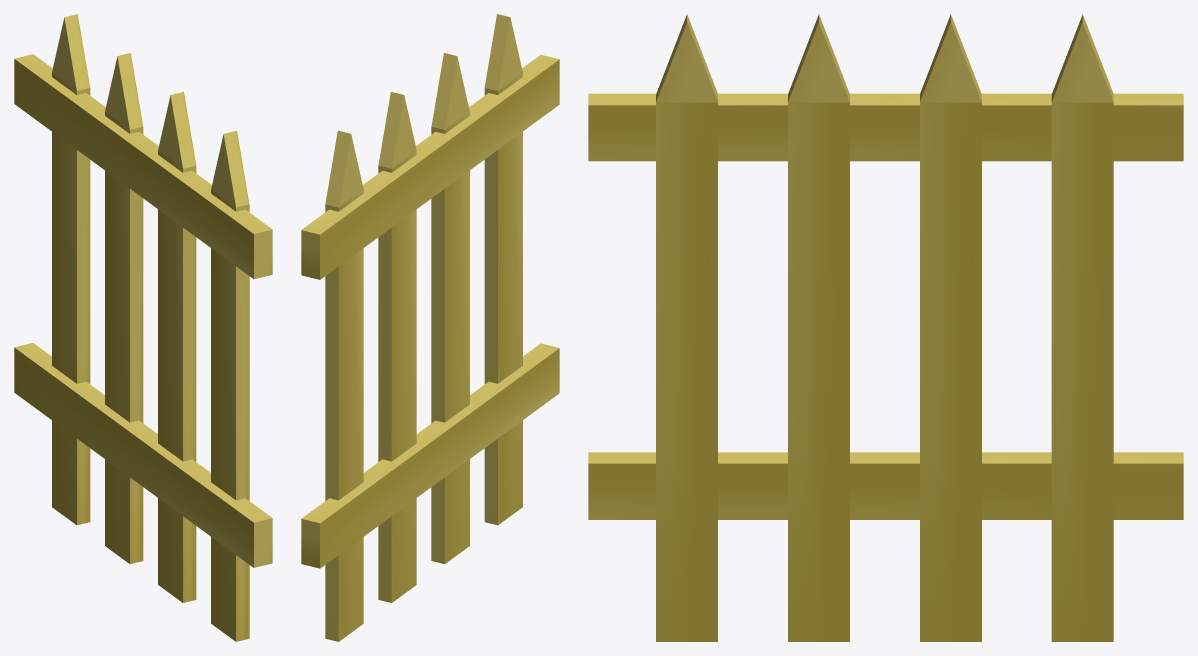
File: fence.fbx
3 renders of one model, left to right at view 1: azimuth 30°, elevation 25°; view 2: azimuth 150°, elevation 25°; view 3: azimuth 270°, elevation 25°, orthographic. The views are drawn at different scales.
Parts seen in each view (by area): view 1: fence; view 2: fence; view 3: fence.
Boxes of the visible parts, box(x1,y1,x2,y2) form: fence: box(14, 14, 272, 641); fence: box(301, 14, 559, 641); fence: box(588, 14, 1183, 641).
Size of the model in its own units: 15.96 by 332 by 289.
